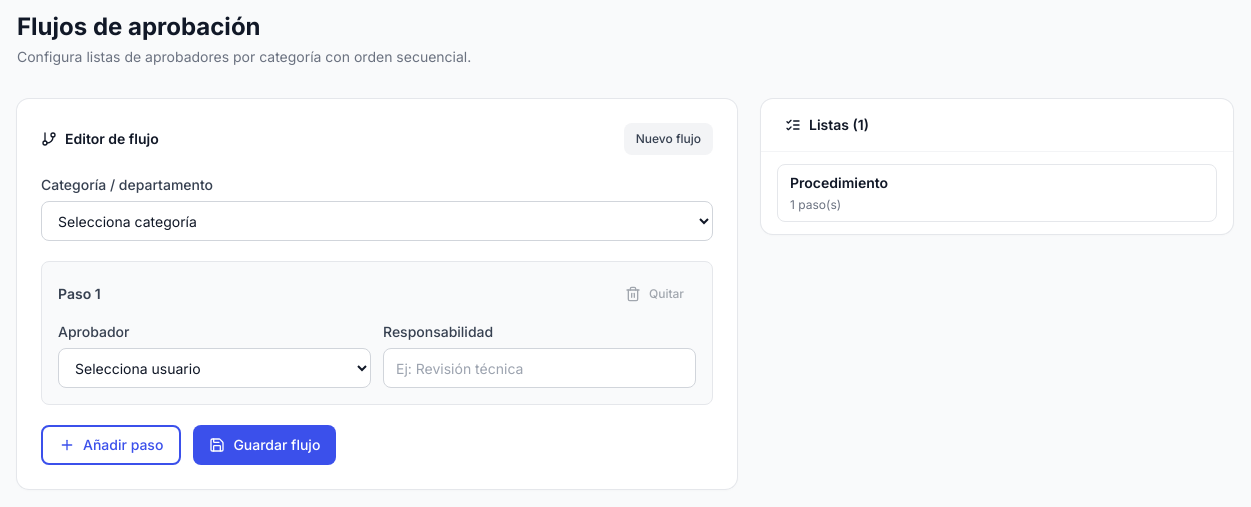
Test: ApprovalWorkflowsPage › muestra workflows existentes y carga un workflow al hacer click
Click the button "Procedimiento 1 paso(s)" at [839, 182], box top-left (777, 164), bottom-right (1217, 222)
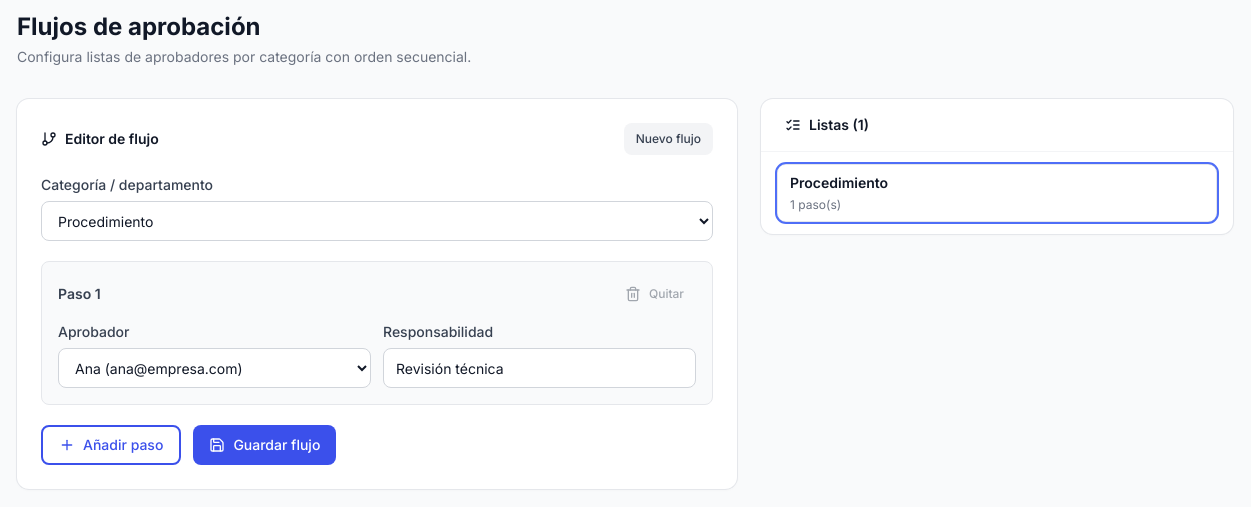
Now the dropdown labelled "Categoría / departamento" shows "Procedimiento", box top-left (41, 201), bottom-right (713, 241)
Now the field labelled "Responsabilidad" holds "Revisión técnica", box top-left (383, 348), bottom-right (696, 388)
